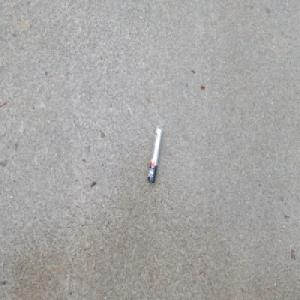Battery: (147, 126, 162, 184)
